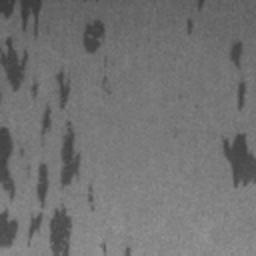Red iron sheet: (0, 65, 96, 256), (0, 0, 44, 106), (223, 133, 256, 189), (229, 41, 247, 111), (82, 19, 106, 54), (99, 242, 132, 256), (100, 74, 113, 97), (197, 0, 206, 10), (187, 20, 193, 35)
